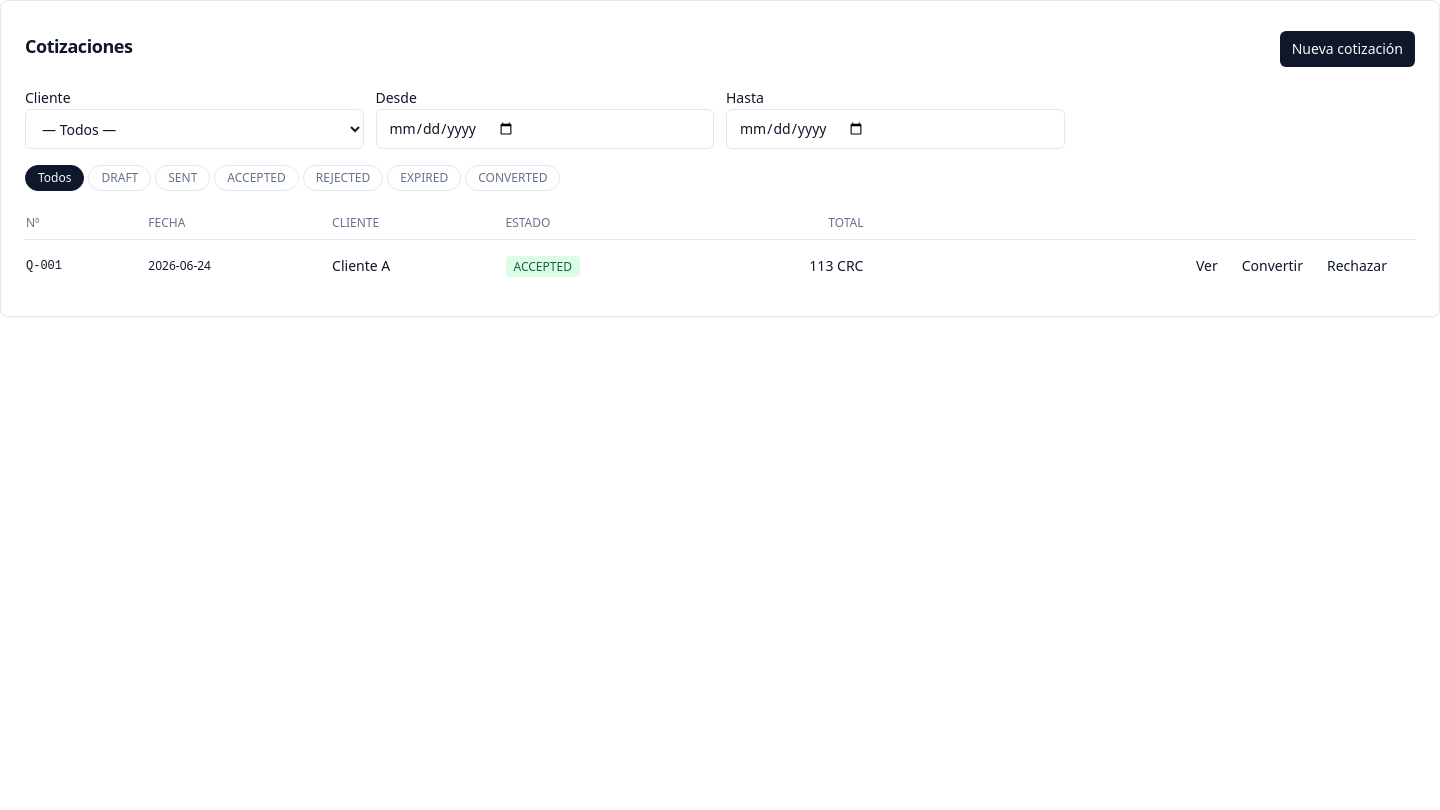
Test: QuotationsPage — selector de nivel de precio por línea (PR-37) › al elegir producto: nivel default Precio 1 y precio autocompletado a 142.86; margen ef. = 30 %
Click the button "Nueva cotización".
click(1347, 49)  # box [1280,31,1415,67]
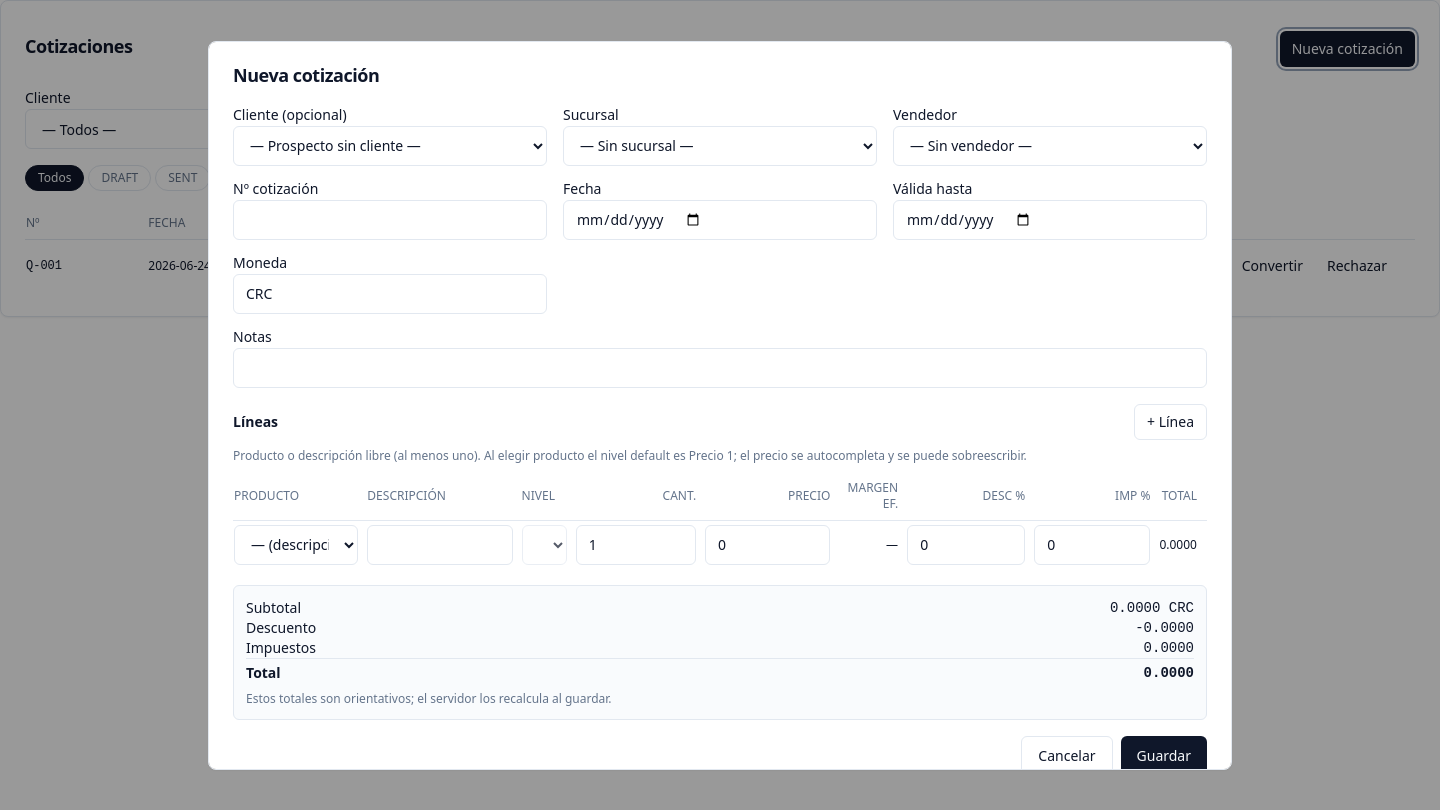
expect the dropdown named "producto línea 1" is shown: met
Select "P-1 — Producto X" in the dropdown named "producto línea 1" at (296, 544), box [234,524,358,564]
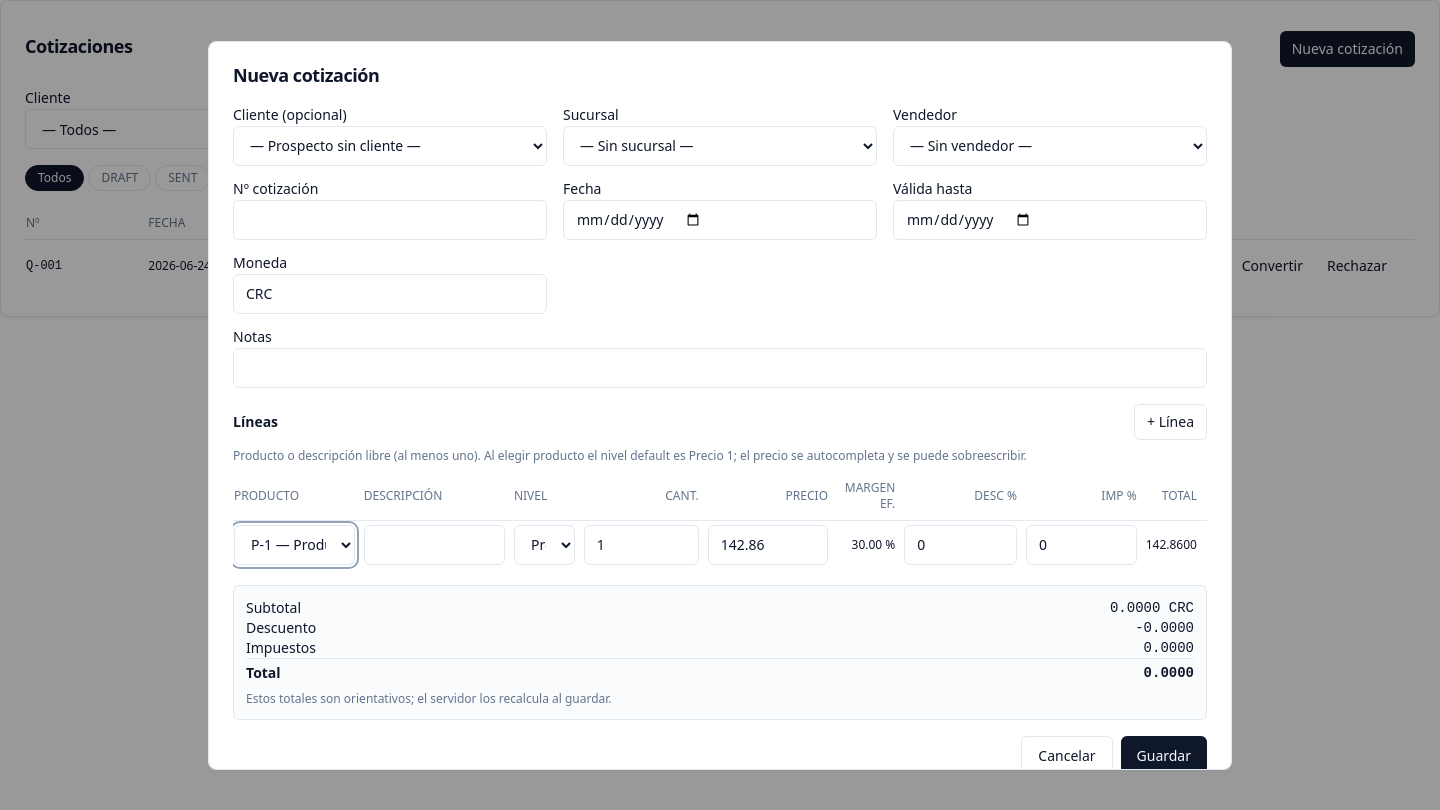
expect the dropdown with test id "quote-line-level-0" shows "Precio 1": met, box [514,524,575,564]
expect the field named "precio línea 1" holds "142.86": met, box [708,524,828,564]
expect the cell with test id "quote-line-margin-0" reads "30.00 %": met, box [852,536,895,552]
